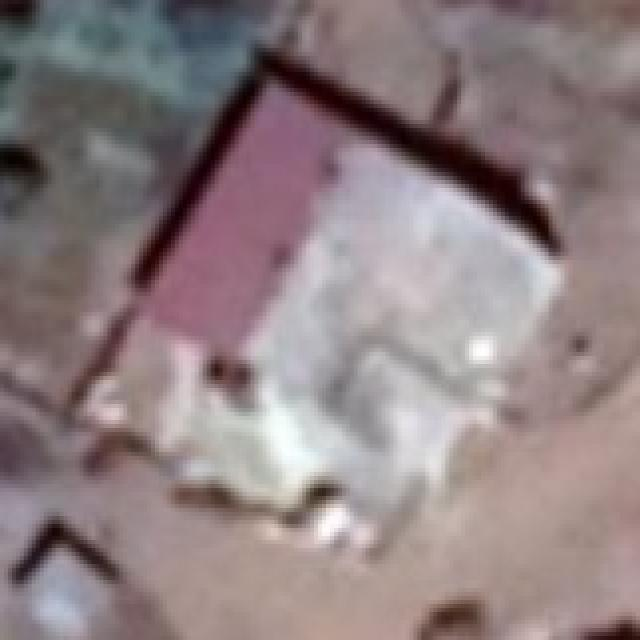Batiment: (142, 79, 342, 350)
